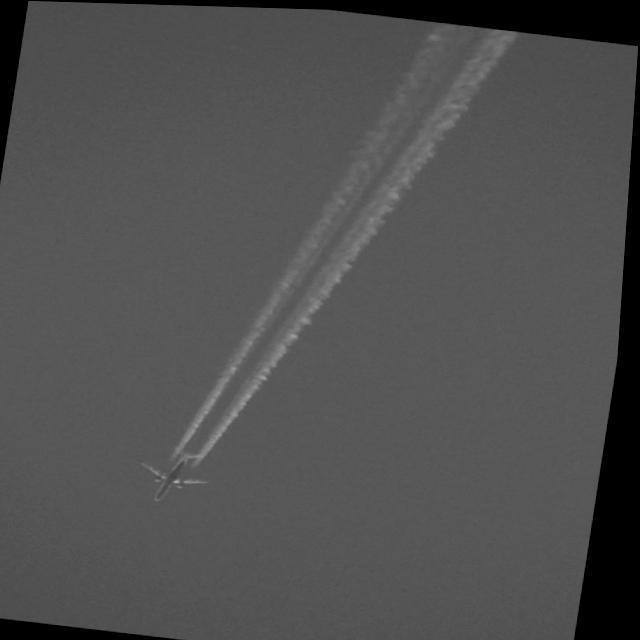aeroplane: (133, 442, 227, 507)
